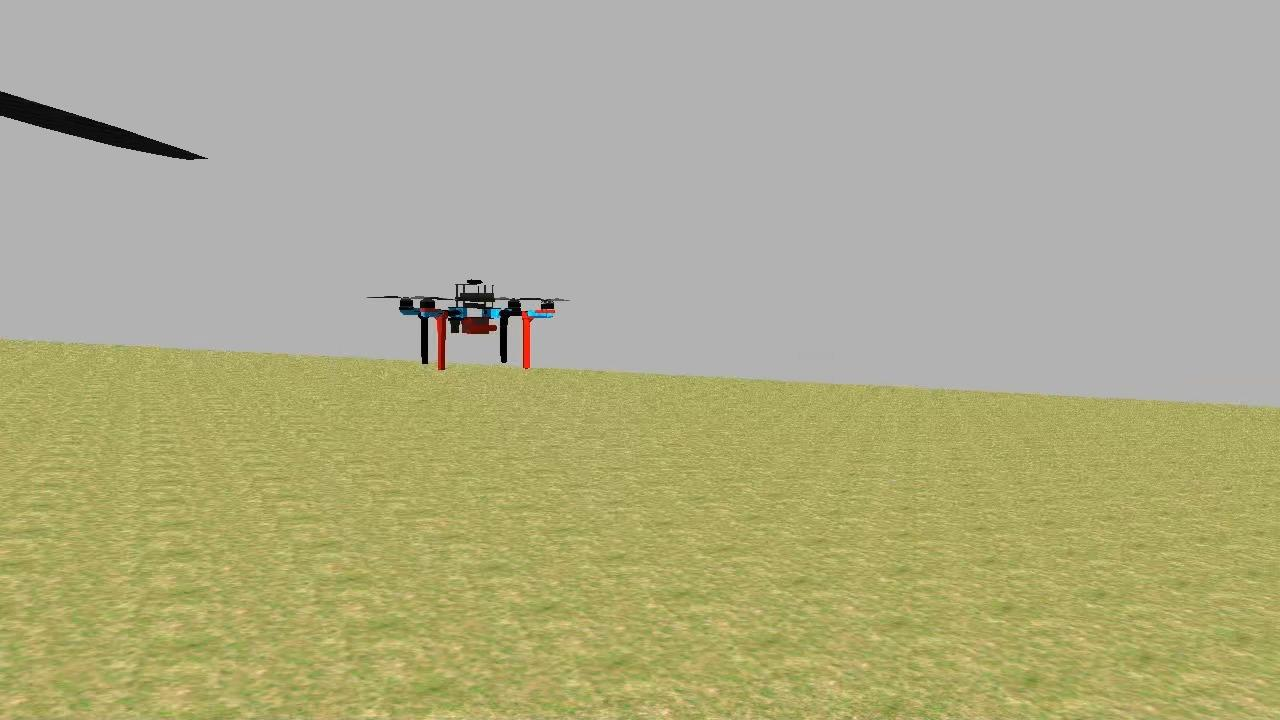UAV: (392, 270, 564, 370)
